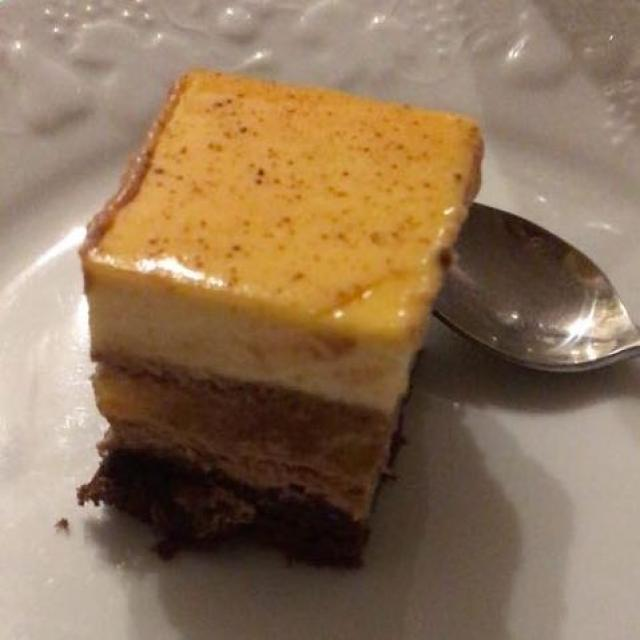chocolate-mousse: (84, 435, 396, 587)
mousse: (65, 54, 479, 402)
tart: (82, 344, 401, 477)
